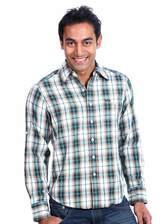clothoes: (23, 63, 159, 218)
